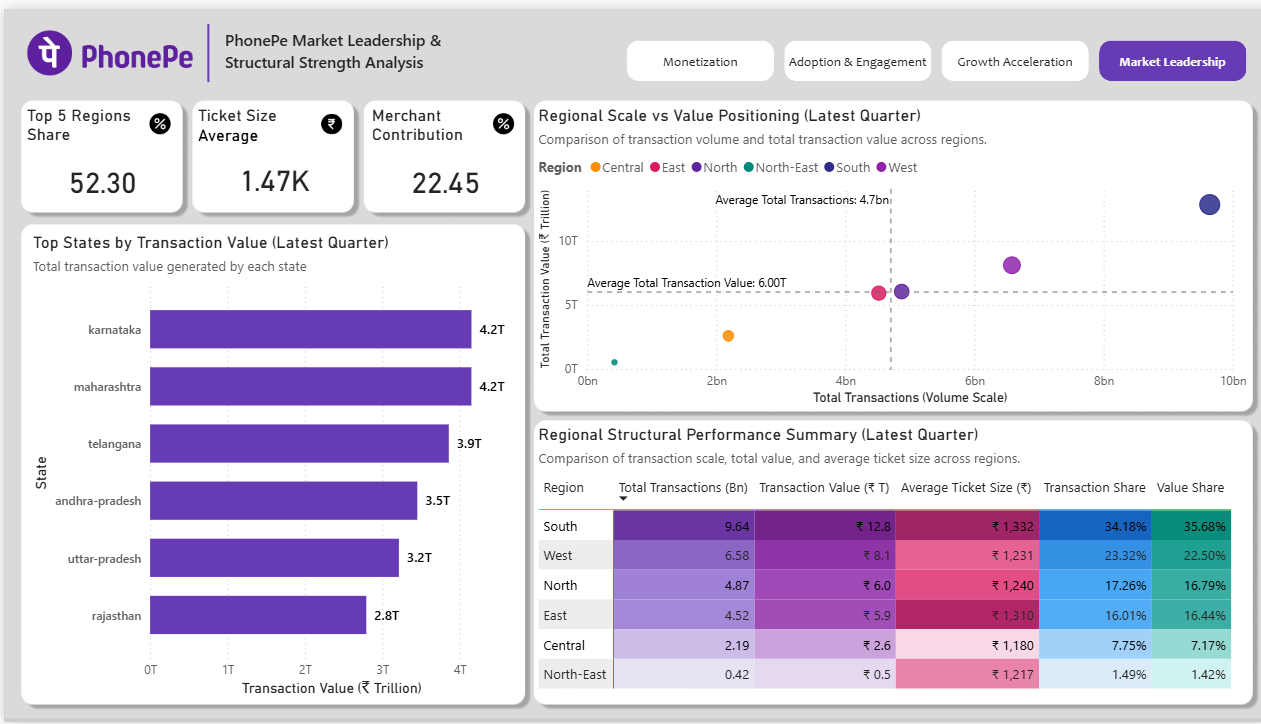

The page's visual inventory and layout, read from the dashboard file:
{"tool":"powerbi","page":{"name":"Market Leadership","canvas":[1280,720],"ordinal":3},"visuals":[{"type":"card","title":"Top 5 Regions Share","fields":{"Values":["Measure_Table.Top5 Share %"]},"box":[18.8,96.2,161.2,115],"z":0},{"type":"card","title":"Ticket Size","fields":{"Values":["Measure_Table.Average Ticket Size"]},"box":[191.2,96.2,163.8,115],"z":1000},{"type":"card","title":"Merchant Contribution","fields":{"Values":["Max(vw_merchant_vs_p2p_share.merchant_share_percent)"]},"box":[366.2,96.2,158.8,115],"z":2000},{"type":"clusteredBarChart","title":"Top States by Transaction Value (Latest Quarter)","fields":{"Category":["vw_state_leaderboard.state_name"],"Y":["Sum(vw_state_leaderboard.total_transaction_value_rupees)"]},"box":[23.8,226.2,501.2,472.5],"z":3000},{"type":"scatterChart","title":"Regional Scale vs Value Positioning (Latest Quarter)","fields":{"Series":["vw_core_quarterly_regional_transactions.region"],"X":["Sum(vw_core_quarterly_regional_transactions.total_transactions)"],"Y":["Sum(vw_core_quarterly_regional_transactions.total_transaction_value_rupees)"],"Size":["Sum(vw_core_quarterly_regional_transactions.total_transactions)"]},"box":[534.1,96.8,724.9,308.2],"z":4000},{"type":"pivotTable","title":"Regional Structural Performance Summary (Latest Quarter)","fields":{"Rows":["vw_core_quarterly_regional_transactions.region"],"Values":["Measure_Table.Total Transactions (Bn)","Measure_Table.Transaction Value (₹ T)","Measure_Table.Average Ticket Size","Measure_Table.Transaction Share %","Measure_Table.Transaction Value Share (%)"]},"box":[534.1,419.7,724.9,278.8],"z":5000},{"type":"image","box":[19.1,14.7,174.6,58.7],"z":6000},{"type":"pageNavigator","box":[628.1,32.3,626.6,41.1],"z":7000},{"type":"shape","box":[193.7,14.7,24.9,58.7],"z":8000},{"type":"textbox","box":[218.6,14.7,255.3,58.7],"z":9000},{"type":"image","box":[493.8,105,21.2,22.5],"z":9001},{"type":"image","box":[147.5,105,21.2,22.5],"z":9002},{"type":"image","box":[319.4,105.3,22.4,23.5],"z":9003}]}

Visuals, with their boxes in screenshot pixels (x1, y1, x2, y2), scaled from the page's 1280x720 canvas onto the 1261x724 screenshot:
"Top 5 Regions Share" card: select_region(19, 97, 177, 212)
"Ticket Size" card: select_region(188, 97, 350, 212)
"Merchant Contribution" card: select_region(361, 97, 517, 212)
"Top States by Transaction Value (Latest Quarter)" clusteredBarChart: select_region(23, 227, 517, 703)
"Regional Scale vs Value Positioning (Latest Quarter)" scatterChart: select_region(526, 97, 1240, 407)
"Regional Structural Performance Summary (Latest Quarter)" pivotTable: select_region(526, 422, 1240, 702)
image: select_region(19, 15, 191, 74)
pageNavigator: select_region(619, 32, 1236, 74)
shape: select_region(191, 15, 215, 74)
textbox: select_region(215, 15, 467, 74)
image: select_region(486, 106, 507, 128)
image: select_region(145, 106, 166, 128)
image: select_region(315, 106, 337, 130)
